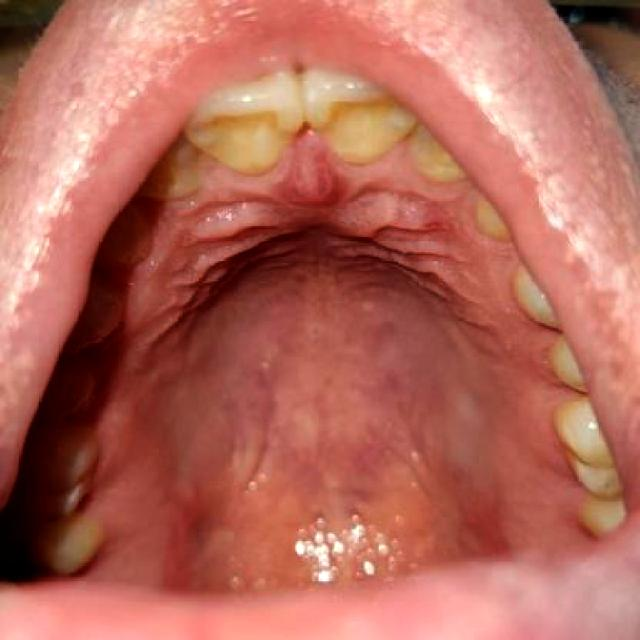Plaque: (524, 340, 570, 387)
